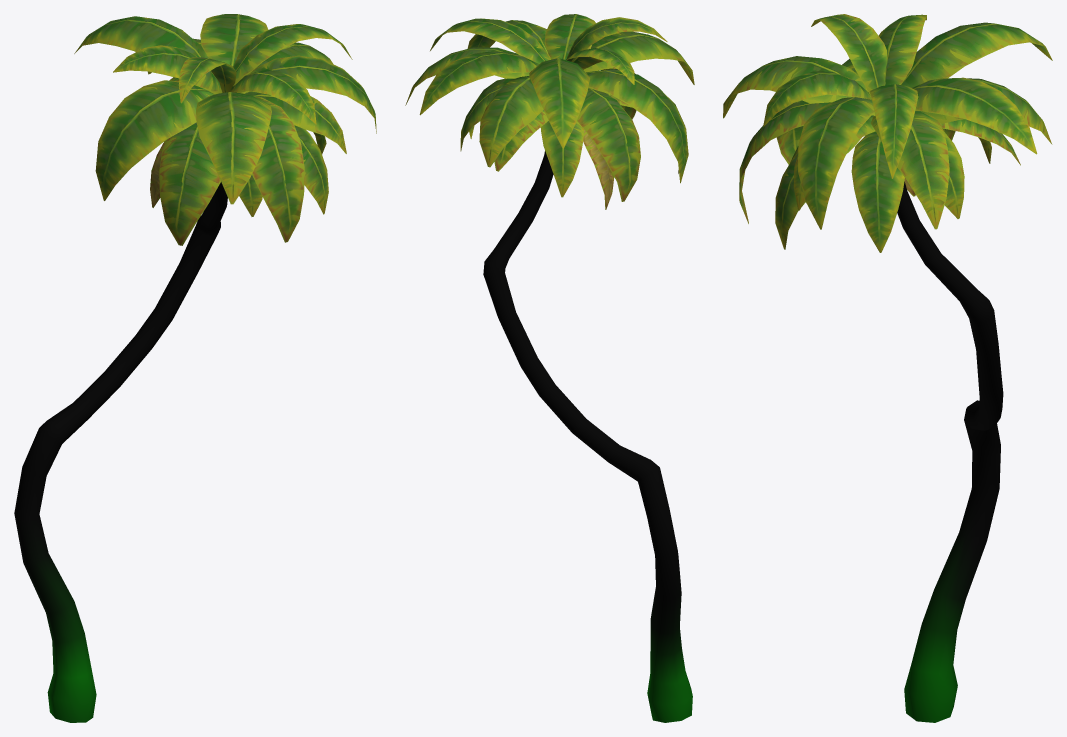
Rendered from P_PalmTree15.obj.
3 renders of one model, left to right at view 1: azimuth 30°, elevation 25°; view 2: azimuth 150°, elevation 25°; view 3: azimuth 270°, elevation 25°, orthographic. The views are drawn at different scales.
Bounding box in the file's own units: 9.39 × 19.75 × 7.96.
